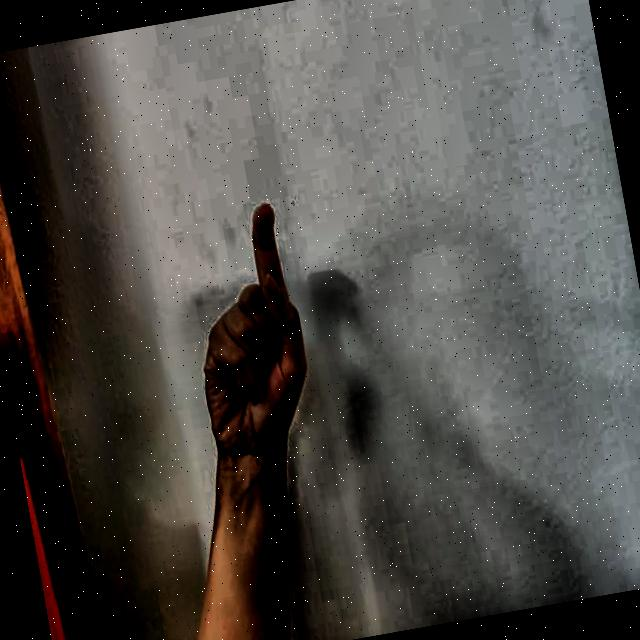E: (144, 170, 350, 474)
